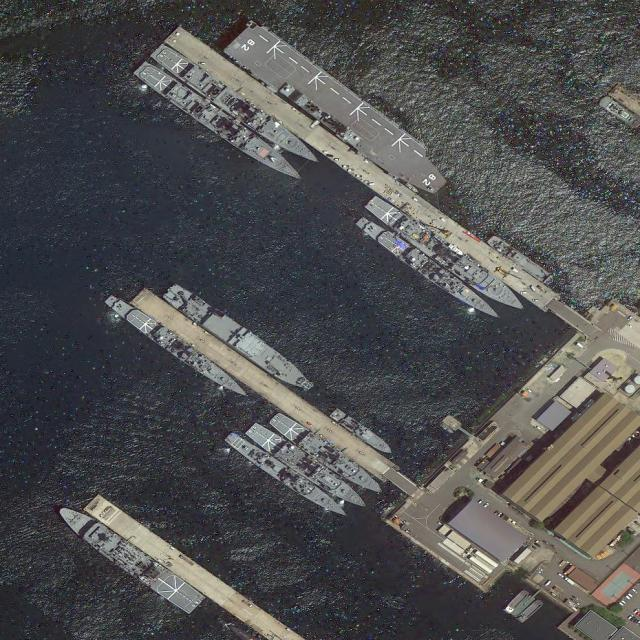Auxiliary Ships: (162, 280, 317, 397)
Destroyer: (222, 19, 457, 204), (129, 54, 309, 189), (146, 38, 328, 171), (363, 193, 529, 319), (53, 500, 207, 618), (354, 211, 505, 326), (102, 291, 253, 403), (222, 427, 356, 529), (245, 418, 372, 515), (266, 409, 387, 501)
Dock: (165, 23, 588, 333), (129, 285, 424, 498)
Other Warship: (485, 231, 554, 284), (330, 406, 398, 458)
